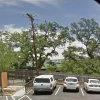Car: (61, 72, 83, 94)
